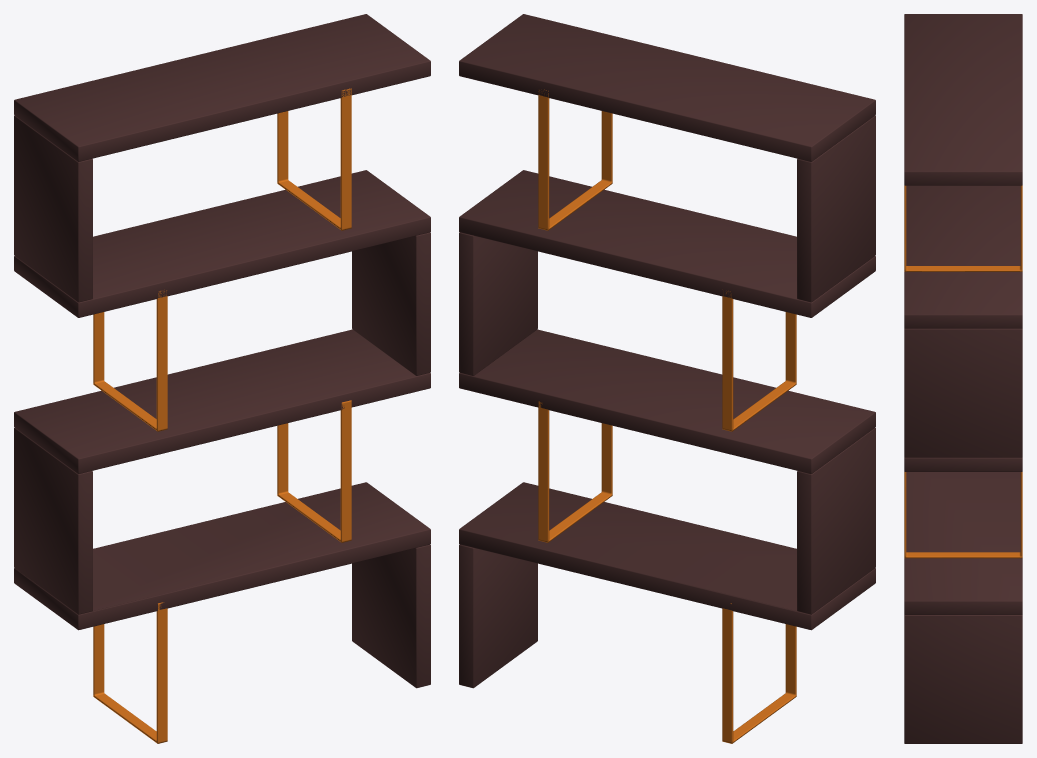
Rendered from Wine_Rack.glb.
3 renders of one model, left to right at view 1: azimuth 30°, elevation 25°; view 2: azimuth 150°, elevation 25°; view 3: azimuth 270°, elevation 25°, orthographic. The views are drawn at different scales.
Parts seen in each view (by area): view 1: huitugou_2062_687, huitugou_2062_686; view 2: huitugou_2062_687, huitugou_2062_686; view 3: huitugou_2062_687, huitugou_2062_686.
Part boxes in pixels (left/top/right/bottom): huitugou_2062_687: left=14, top=14, right=430, bottom=688; huitugou_2062_686: left=93, top=88, right=351, bottom=743; huitugou_2062_687: left=459, top=14, right=875, bottom=688; huitugou_2062_686: left=538, top=89, right=796, bottom=743; huitugou_2062_687: left=904, top=14, right=1022, bottom=743; huitugou_2062_686: left=904, top=185, right=1022, bottom=558.
Size of the model in its own units: 0.9465 by 1.6 by 0.3.
